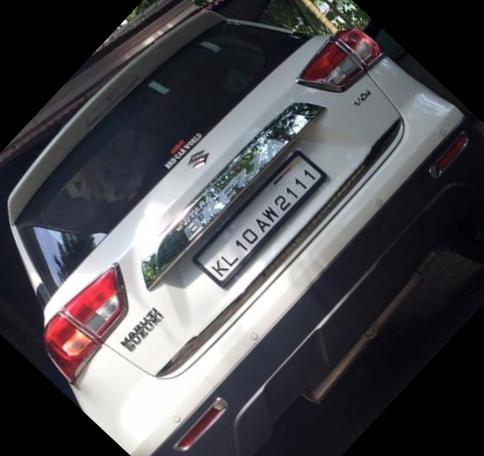plate: (181, 133, 349, 306)
